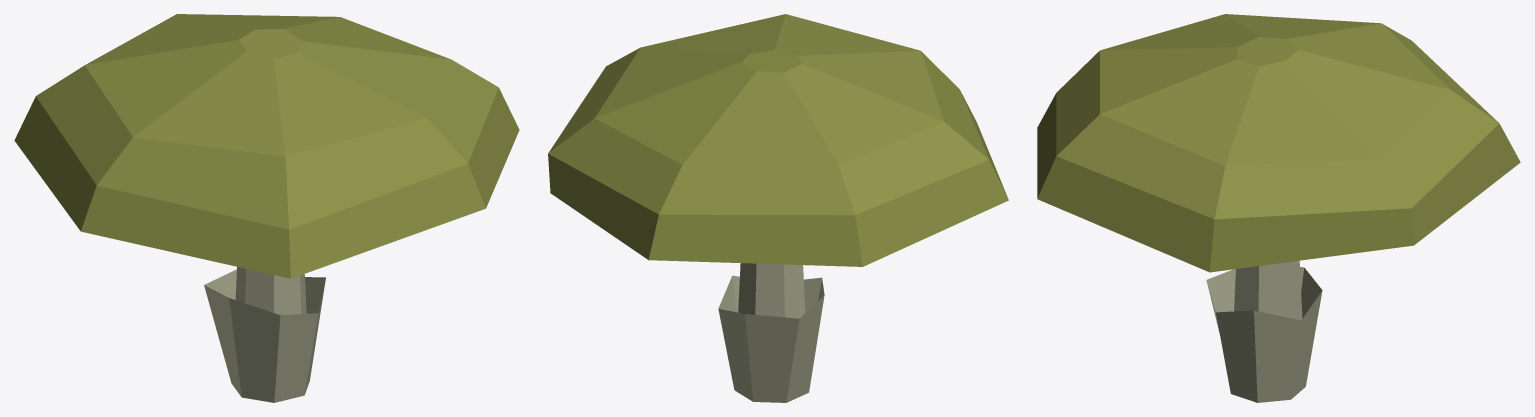
File: Amanita_Phalloides_little 1.fbx
3 views of the same model, side by side, from view 1: azimuth 30°, elevation 25°; view 2: azimuth 150°, elevation 25°; view 3: azimuth 270°, elevation 25° (orthographic). The views are drawn at different scales.
Visible parts, largest first — view 1: Cylinder.003; view 2: Cylinder.003; view 3: Cylinder.003.
Part boxes in pixels (x1,y1,x2,y2): Cylinder.003: [14, 14, 519, 402]; Cylinder.003: [548, 14, 1008, 402]; Cylinder.003: [1037, 14, 1520, 402].
Bounding box in the file's own units: 50.52 × 37.86 × 49.25.
